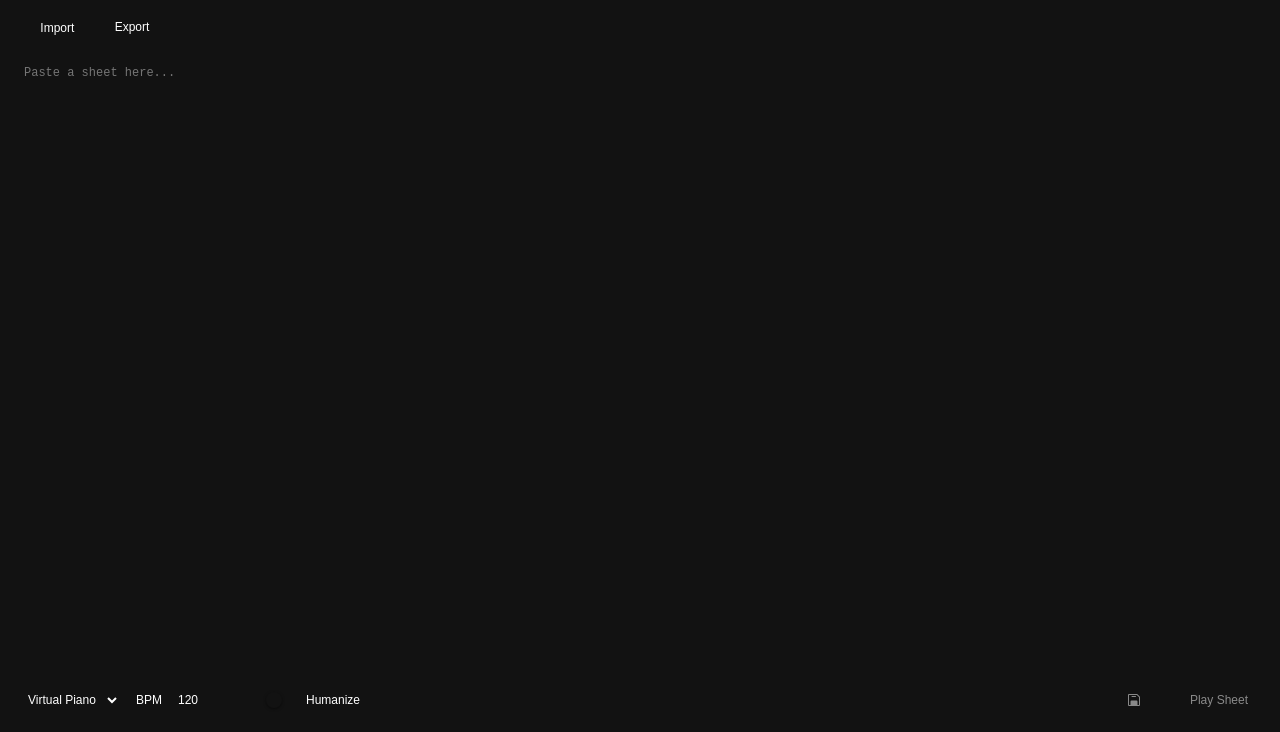
it: TranslatorTab full-screen text box › has a read-only output text box and then the buttons on the Export page, no cards
The image size is (1280, 732).
Step 1. Click the button "Export" → (132, 27), box [99,12,165,42]
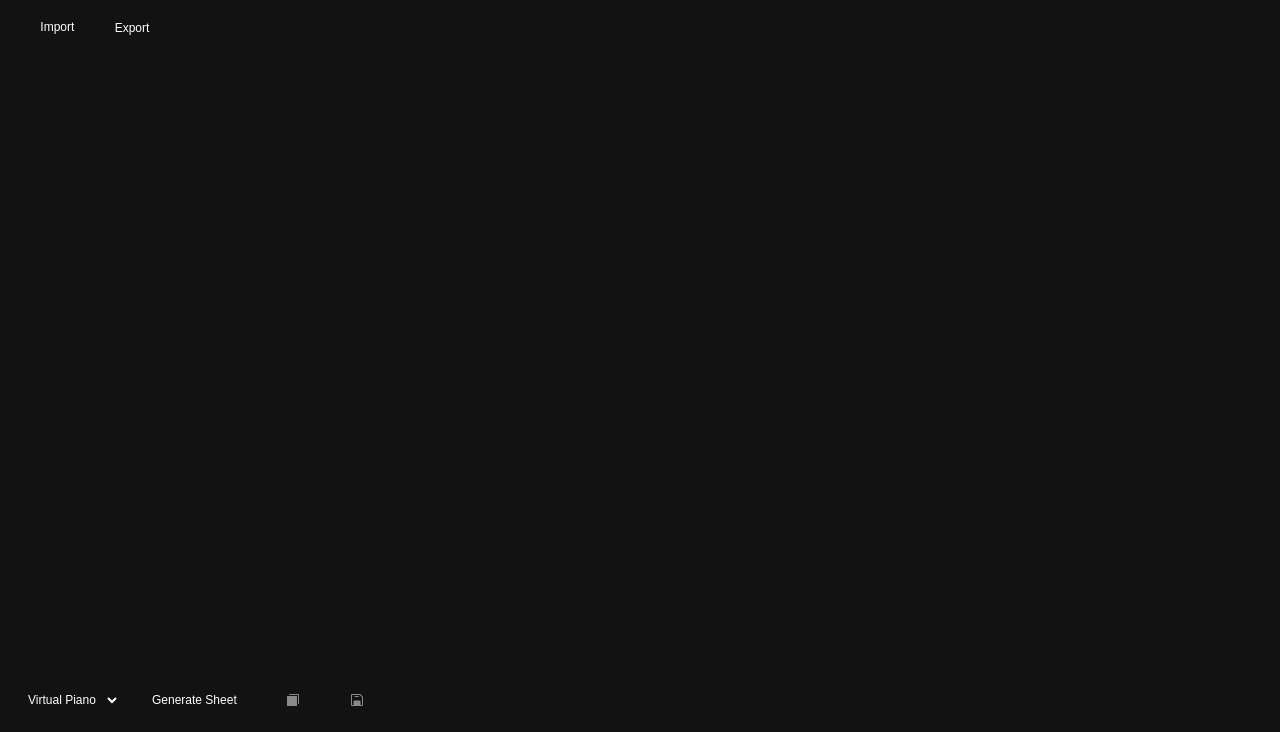
Result: the button named "Copy" is shown at [269,684,317,716]
